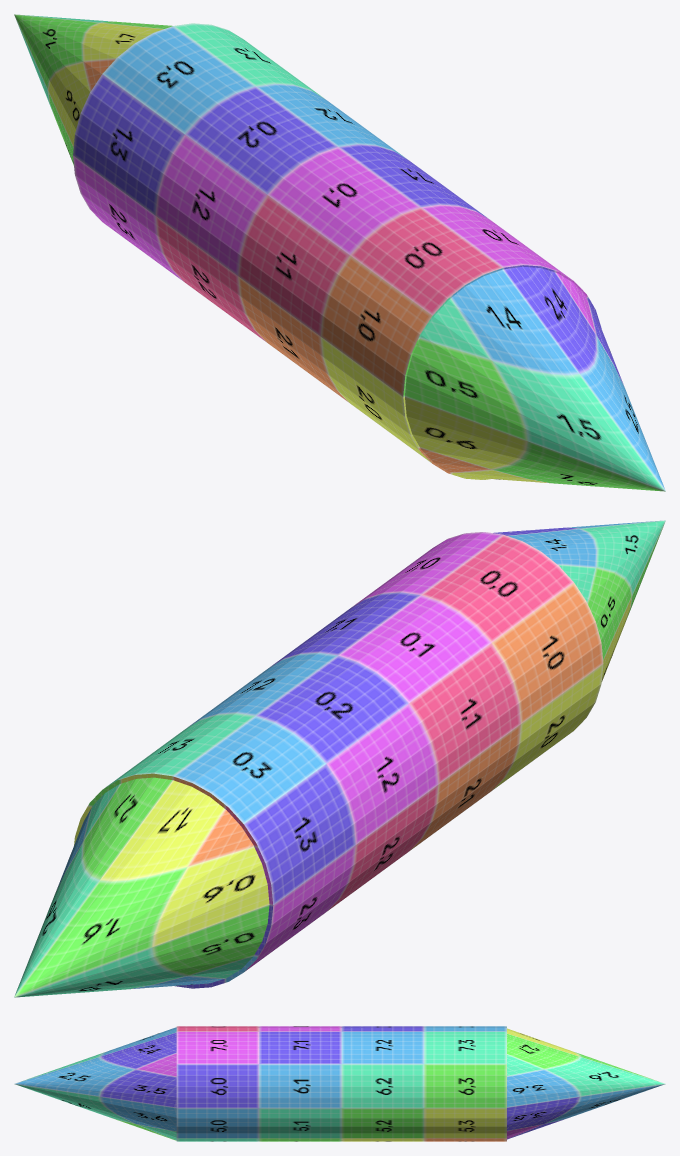
The model's file is Canon.obj.
3 renders of one model, top to bottom at view 1: azimuth 30°, elevation 25°; view 2: azimuth 150°, elevation 25°; view 3: azimuth 270°, elevation 25°, orthographic. The views are drawn at different scales.
Visible parts, largest first — view 1: 円柱; view 2: 円柱; view 3: 円柱.
Boxes of the visible parts, x1,y1,x2,y2 form: 円柱: (14,14,665,491); 円柱: (14,520,665,997); 円柱: (14,1026,665,1141).
Size of the model in its own units: 1.4 by 1.4 by 7.9.
Materials: 1 (1 with a texture image).
